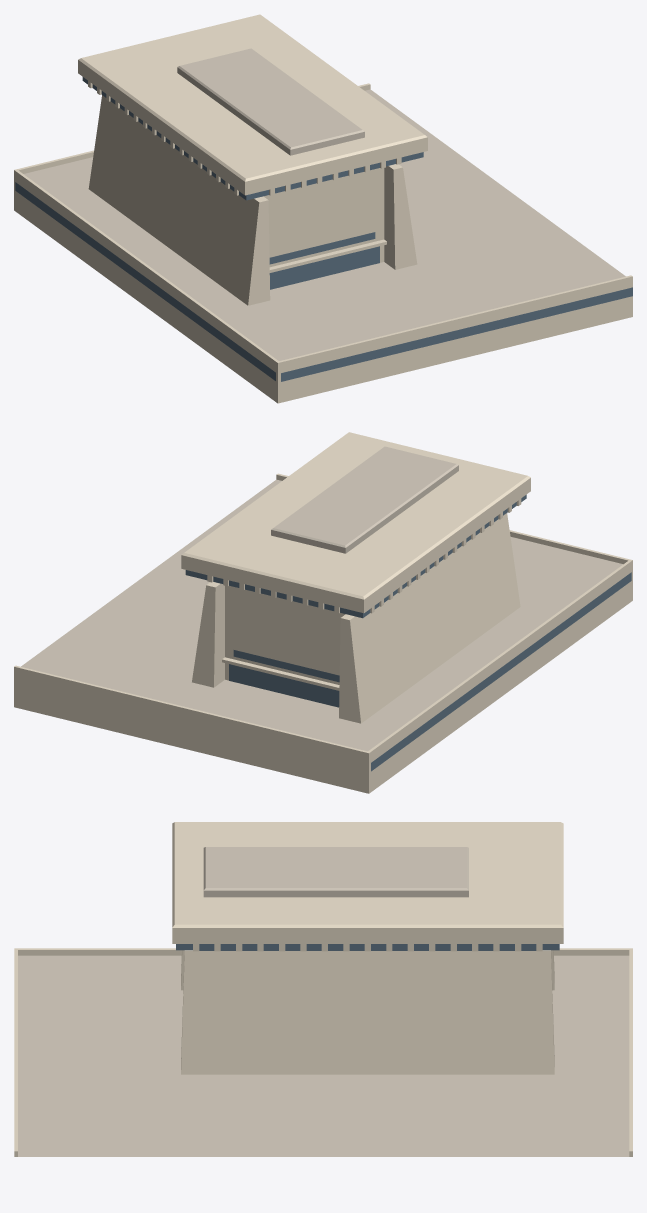
The model's file is atx-lbj-library.glb.
The picture shows the model from 3 angles, top to bottom: view 1: azimuth 30°, elevation 25°; view 2: azimuth 150°, elevation 25°; view 3: azimuth 270°, elevation 25°; orthographic projection. The views are drawn at different scales.
Visible parts, largest first — view 1: Lyndon Baines Johnson Library and Museum; view 2: Lyndon Baines Johnson Library and Museum; view 3: Lyndon Baines Johnson Library and Museum.
Part boxes in pixels (bbox=[...]): Lyndon Baines Johnson Library and Museum: bbox=[14, 14, 632, 403]; Lyndon Baines Johnson Library and Museum: bbox=[14, 432, 632, 793]; Lyndon Baines Johnson Library and Museum: bbox=[14, 822, 632, 1156].
Size of the model in its own units: 76.16 by 35.5 by 98.06.
